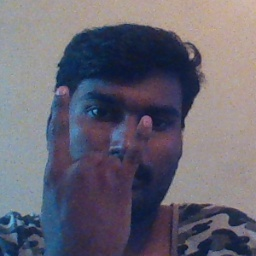V: (39, 83, 156, 252)
